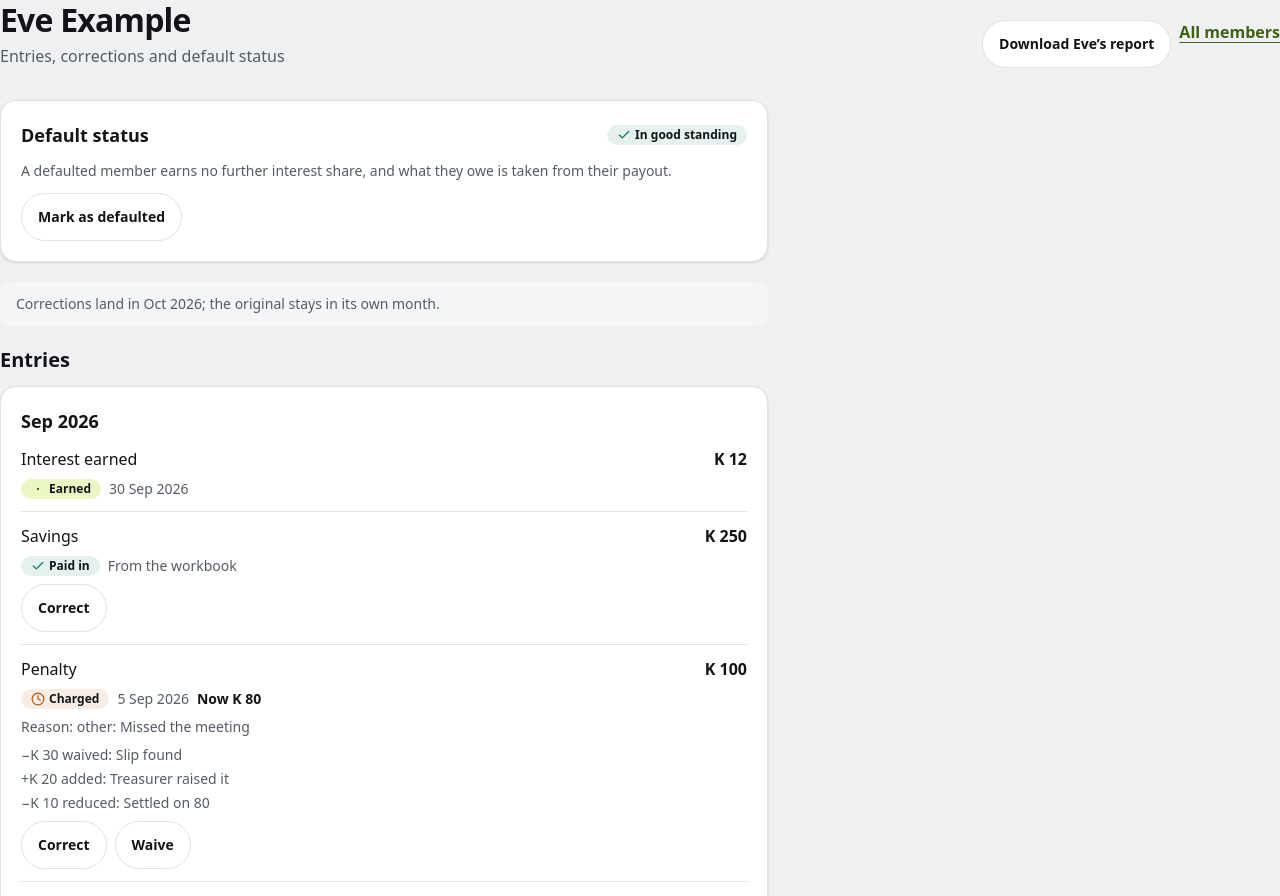
the sheet is told whose entry and which month
Click the button with aria-label "Correct Penalty K 100 from Sep 2026, 5 Sep 2026" at (64, 845), box [21,821,107,869]
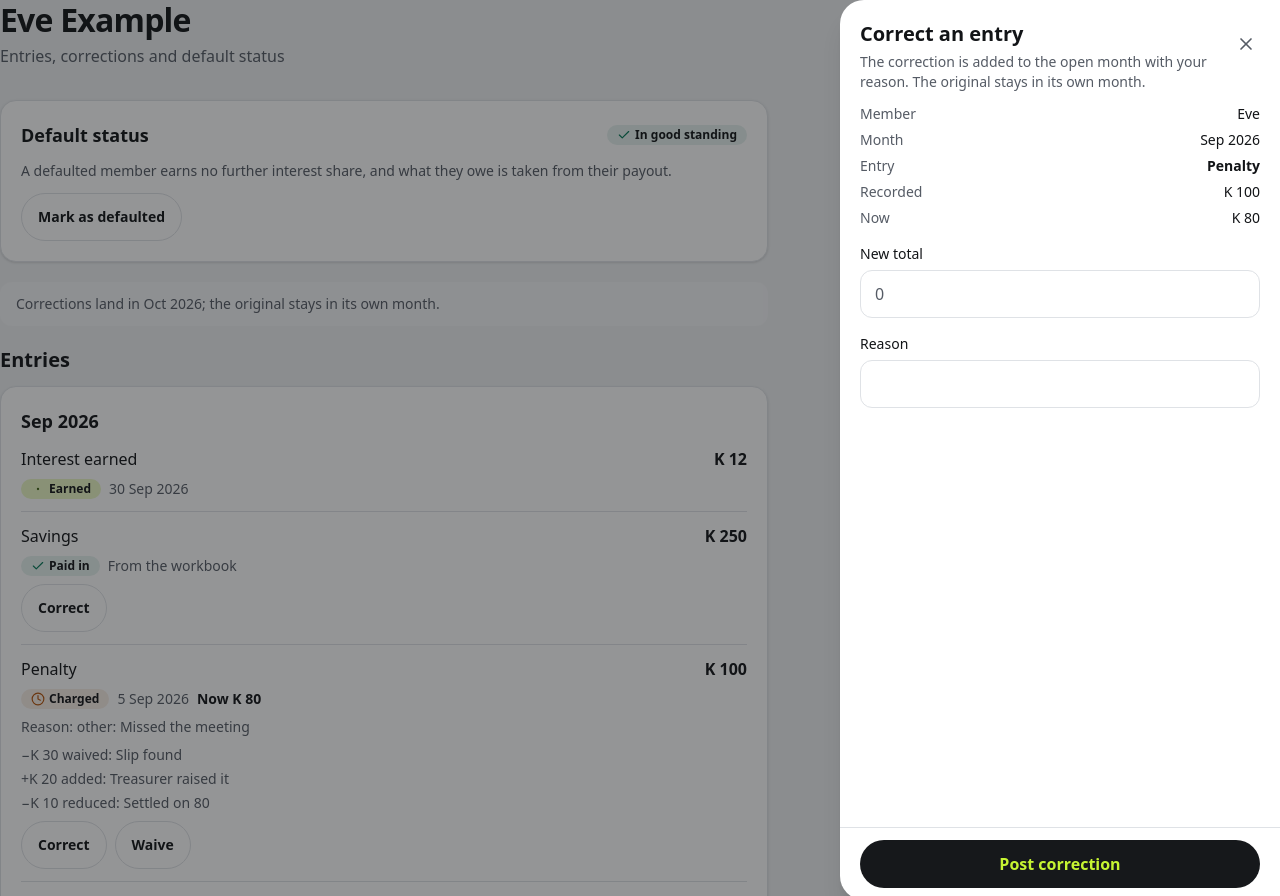
Expected: the text "Eve" is shown, [1237,104,1260,123]
Expected: the text "Sep 2026" is shown, [1200,130,1260,150]
